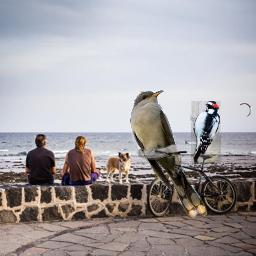Cuckoo: (130, 90, 207, 218)
Woodpecker: (190, 101, 221, 164)
